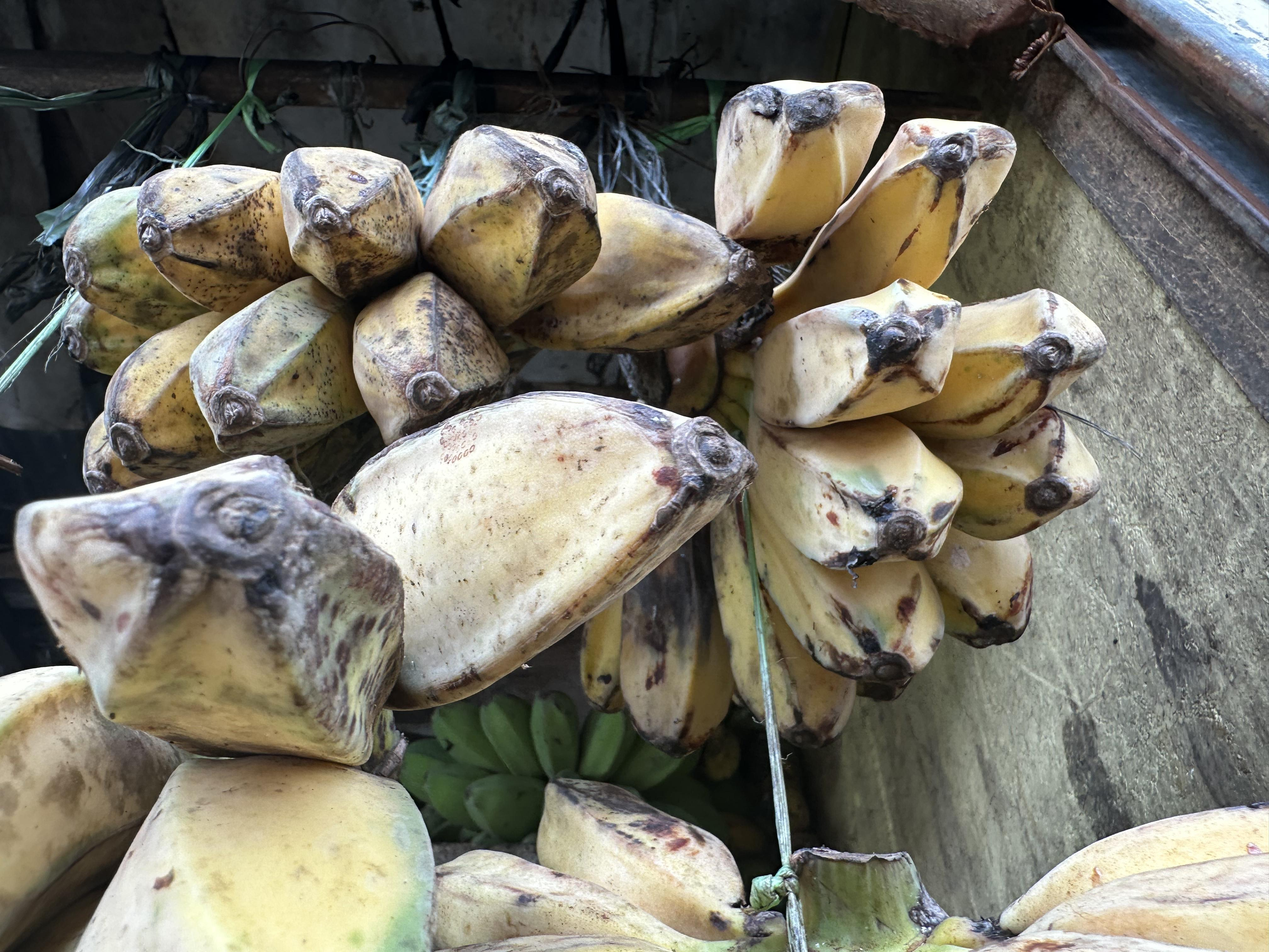ripe: (0, 389, 760, 952), (581, 81, 1105, 751), (61, 125, 773, 492), (423, 778, 749, 952), (996, 806, 1269, 952)
underripe: (398, 692, 751, 842)
